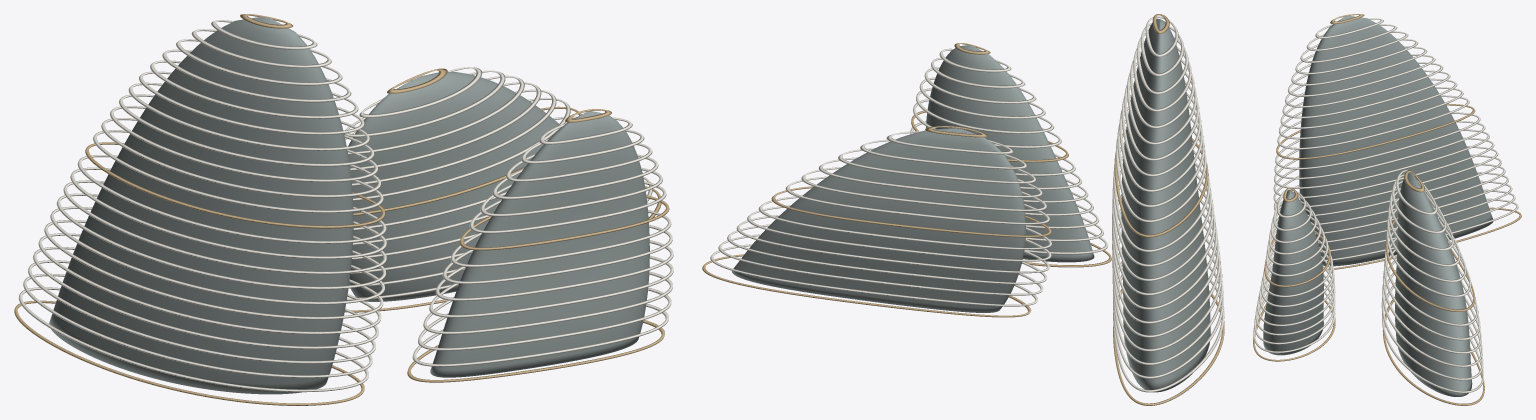
File: journey-wangjing-abstract.glb
3 renders of one model, left to right at view 1: azimuth 30°, elevation 25°; view 2: azimuth 150°, elevation 25°; view 3: azimuth 270°, elevation 25°, orthographic. The views are drawn at different scales.
Visible parts, largest first — view 1: Wangjing | smoke cores, Wangjing | pearl contours, Wangjing | champagne contours; view 2: Wangjing | smoke cores, Wangjing | pearl contours, Wangjing | champagne contours; view 3: Wangjing | smoke cores, Wangjing | pearl contours, Wangjing | champagne contours.
Part boxes in pixels (left/top/right/bottom): Wangjing | smoke cores: left=49, top=16, right=649, bottom=394; Wangjing | pearl contours: left=18, top=20, right=673, bottom=392; Wangjing | champagne contours: left=14, top=14, right=669, bottom=405; Wangjing | smoke cores: left=732, top=18, right=1210, bottom=392; Wangjing | pearl contours: left=710, top=16, right=1224, bottom=392; Wangjing | champagne contours: left=702, top=14, right=1224, bottom=405; Wangjing | smoke cores: left=1263, top=15, right=1493, bottom=396; Wangjing | pearl contours: left=1253, top=18, right=1518, bottom=393; Wangjing | champagne contours: left=1253, top=14, right=1521, bottom=405.
Bounding box in the file's own units: 4.5 × 2.51 × 2.59.
